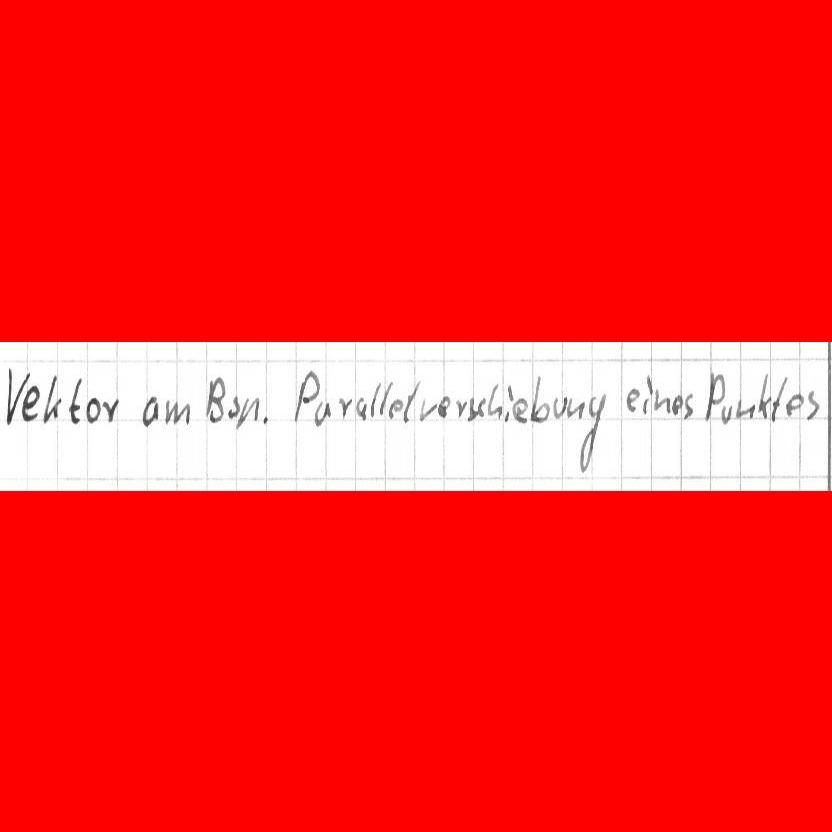Char: (578, 391, 605, 475), (292, 369, 320, 425), (6, 365, 31, 426), (704, 373, 726, 421), (43, 372, 63, 423), (204, 375, 225, 422), (531, 373, 549, 422), (767, 374, 786, 420), (236, 395, 260, 430), (68, 375, 83, 427), (164, 399, 190, 427), (23, 385, 40, 424), (140, 393, 160, 426), (757, 371, 771, 418), (487, 382, 503, 420), (402, 384, 417, 422), (311, 399, 330, 428), (805, 390, 822, 421), (642, 375, 655, 414), (653, 387, 671, 415), (566, 395, 586, 420), (735, 397, 755, 421), (101, 396, 118, 424), (513, 394, 529, 423), (786, 393, 803, 419), (503, 383, 514, 422), (418, 397, 435, 422), (437, 394, 453, 420), (338, 395, 354, 421), (380, 380, 392, 414), (354, 395, 368, 422), (86, 398, 101, 423), (625, 388, 640, 413), (553, 394, 567, 420), (681, 392, 694, 420), (371, 383, 381, 418), (227, 394, 241, 419), (466, 396, 478, 423), (388, 399, 403, 420), (670, 393, 683, 417), (718, 403, 732, 424), (454, 397, 466, 418), (476, 396, 486, 419), (259, 411, 271, 428)
